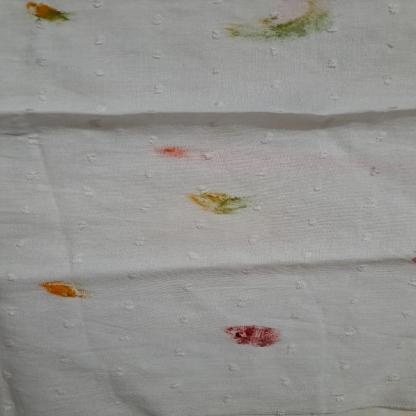spot: (180, 190, 259, 219), (280, 2, 337, 41), (219, 18, 293, 46), (221, 323, 290, 349), (32, 279, 95, 304), (20, 1, 79, 27), (146, 140, 204, 160), (402, 251, 416, 267)
